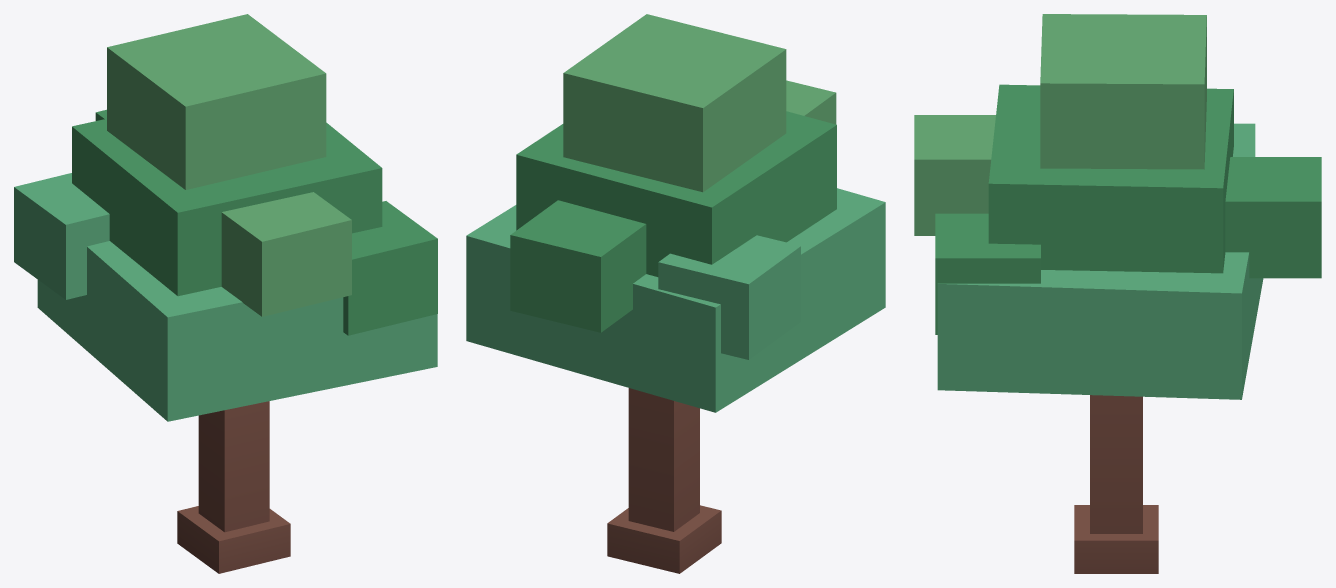
The model's file is box-tree-s.glb.
The picture shows the model from 3 angles, left to right: view 1: azimuth 30°, elevation 25°; view 2: azimuth 150°, elevation 25°; view 3: azimuth 270°, elevation 25°; orthographic projection.
Parts seen in each view (by area): view 1: box-tree-s_body; view 2: box-tree-s_body; view 3: box-tree-s_body.
Part boxes in pixels (left/top/right/bottom): box-tree-s_body: left=14, top=14, right=437, bottom=573; box-tree-s_body: left=466, top=14, right=885, bottom=573; box-tree-s_body: left=914, top=14, right=1321, bottom=573.
Bounding box in the file's own units: 2.3 × 3.76 × 2.78.
